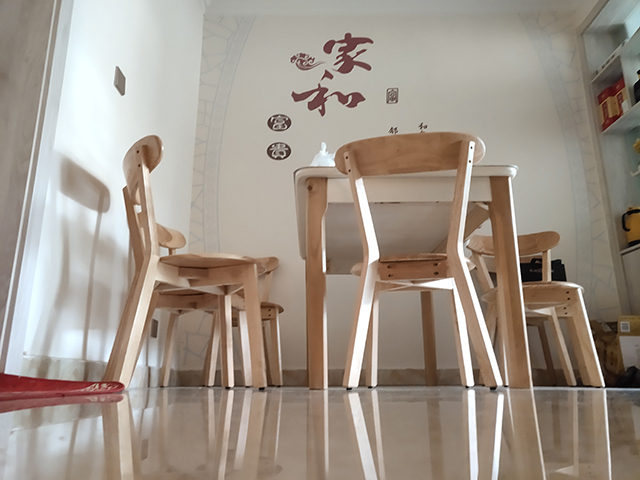carpet: (1, 372, 126, 403)
stool: (100, 132, 285, 393), (332, 128, 504, 392), (464, 229, 608, 389)
table: (292, 160, 535, 392)
